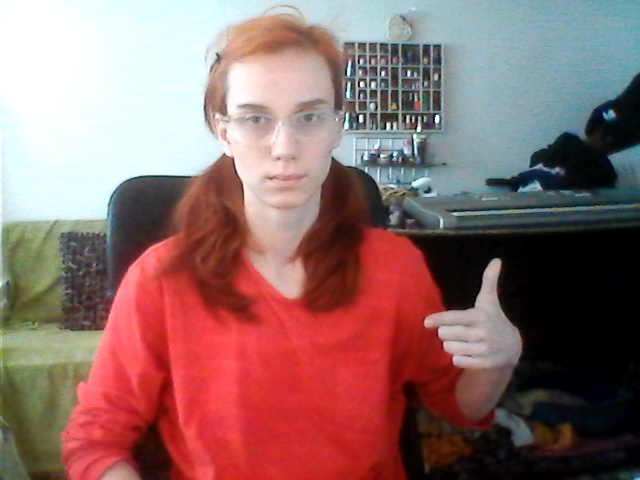dva_dve: (414, 255, 529, 377)
